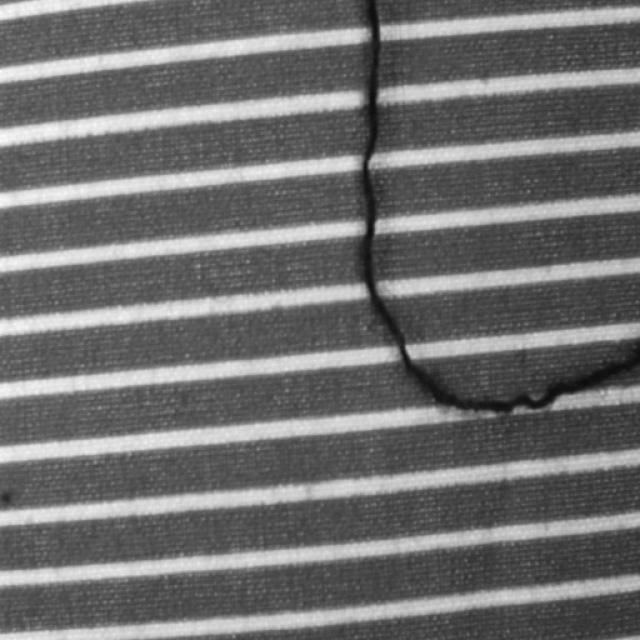Foreign-Body-Defect: (358, 0, 639, 412)
